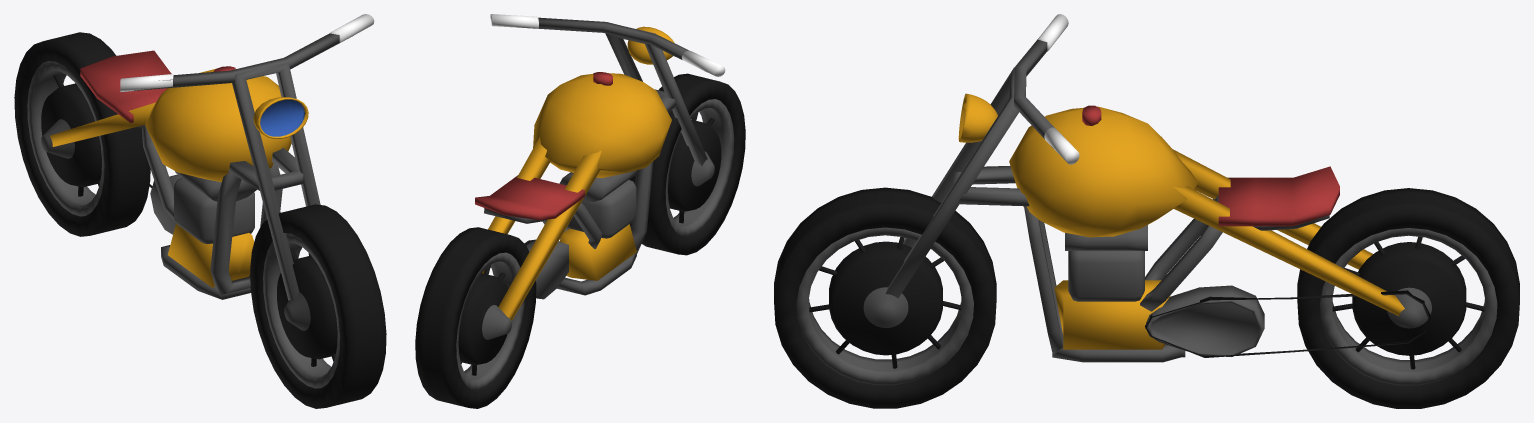
File: motorcycle.gltf
3 views of the same model, side by side, from view 1: azimuth 30°, elevation 25°; view 2: azimuth 150°, elevation 25°; view 3: azimuth 270°, elevation 25° (orthographic). The views are drawn at different scales.
Parts seen in each view (by area): view 1: Tube004; view 2: Tube004; view 3: Tube004.
Boxes of the visible parts, x1,y1,x2,y2 form: Tube004: [14, 14, 386, 408]; Tube004: [415, 14, 745, 408]; Tube004: [774, 14, 1519, 408].
Size of the model in its own units: 0.9224 by 0.9811 by 2.07.
